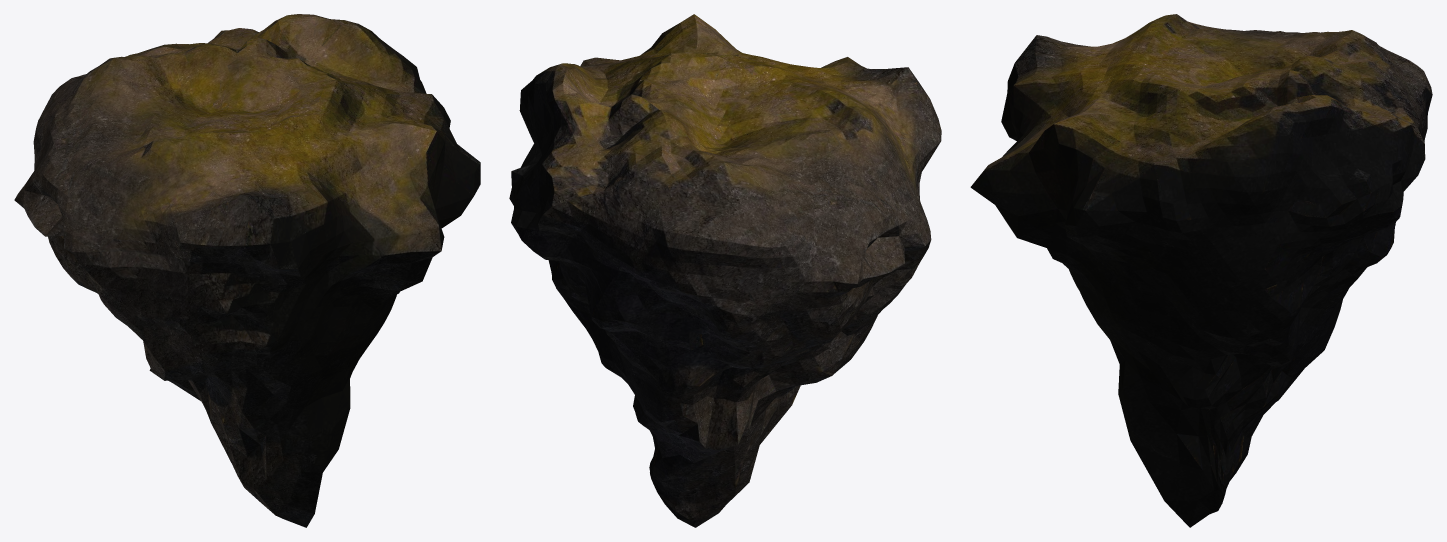
Rendered from floating_rock_2.glb.
3 views of the same model, side by side, from view 1: azimuth 30°, elevation 25°; view 2: azimuth 150°, elevation 25°; view 3: azimuth 270°, elevation 25° (orthographic). The views are drawn at different scales.
Parts seen in each view (by area): view 1: Floating rock 2.001; view 2: Floating rock 2.001; view 3: Floating rock 2.001.
Part boxes in pixels (<box>): Floating rock 2.001: <box>14,14,480,527</box>; Floating rock 2.001: <box>509,14,941,527</box>; Floating rock 2.001: <box>970,14,1432,527</box>.
Size of the model in its own units: 5.23 by 6.13 by 5.59.
Materials: 1 (1 with a texture image).
